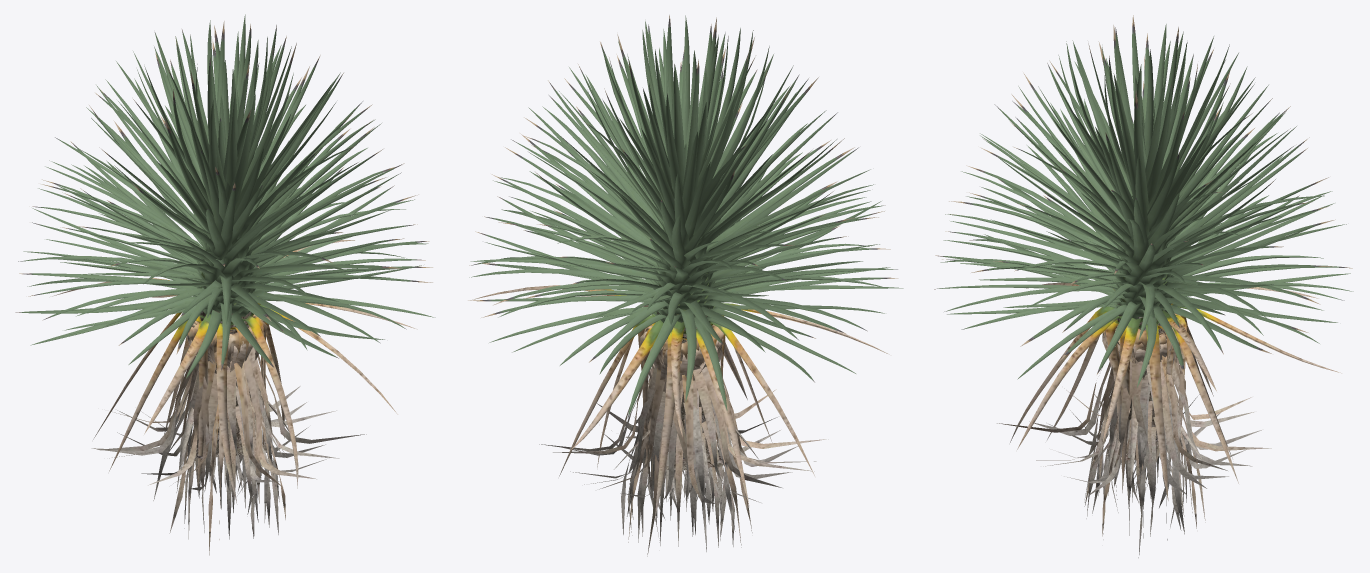
The model's file is p_joshua_tree_b.glb.
3 renders of one model, left to right at view 1: azimuth 30°, elevation 25°; view 2: azimuth 150°, elevation 25°; view 3: azimuth 270°, elevation 25°, orthographic. The views are drawn at different scales.
Parts seen in each view (by area): view 1: Yucca_brevifolia_HD; view 2: Yucca_brevifolia_HD; view 3: Yucca_brevifolia_HD.
Boxes of the visible parts, x1,y1,x2,y2 form: Yucca_brevifolia_HD: (15, 14, 435, 555); Yucca_brevifolia_HD: (468, 15, 903, 556); Yucca_brevifolia_HD: (934, 15, 1353, 557).
Size of the model in its own units: 0.7538 by 0.9929 by 0.7609.
Materials: 4 (4 with a texture image).
